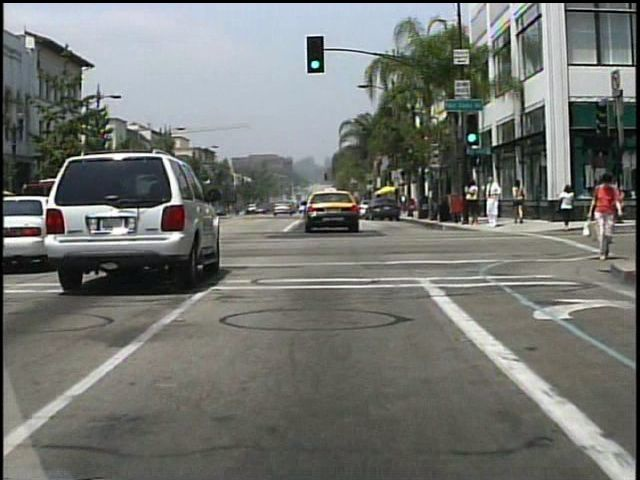person: (584, 173, 623, 260), (600, 172, 621, 236), (483, 176, 503, 228), (560, 182, 578, 231), (512, 178, 528, 225), (467, 175, 479, 225), (400, 191, 409, 214)
